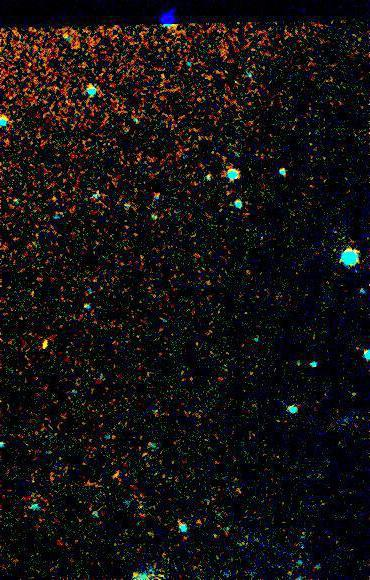star: (32, 329, 62, 359)
